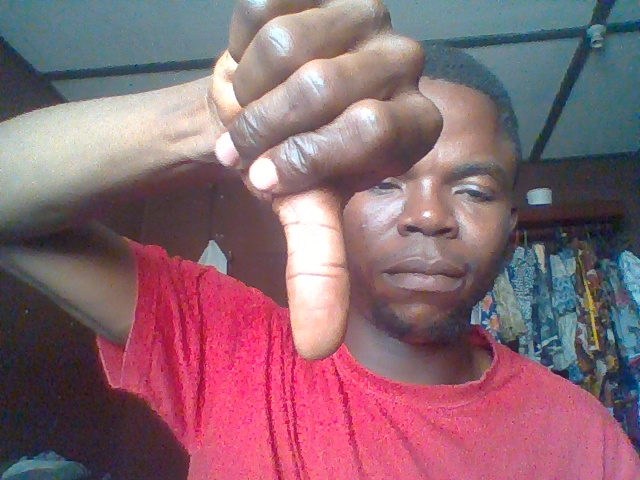Thumbdown: (191, 2, 449, 382)
